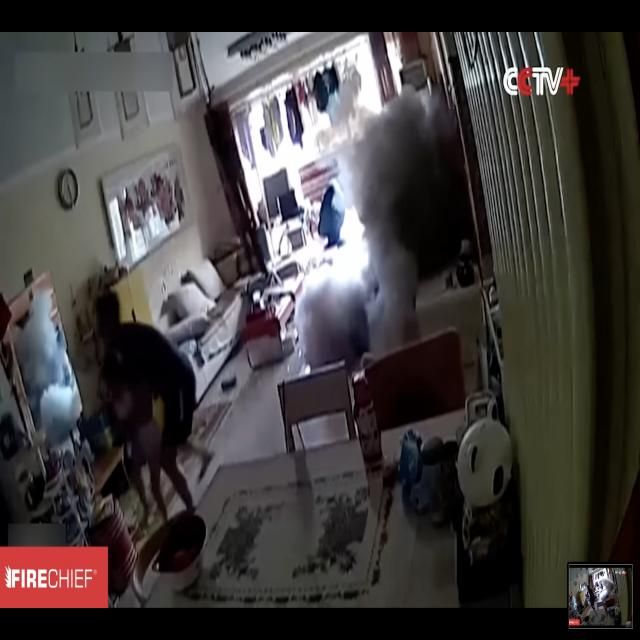Atencao: (275, 84, 481, 388)
Fogo: (343, 246, 398, 310)
